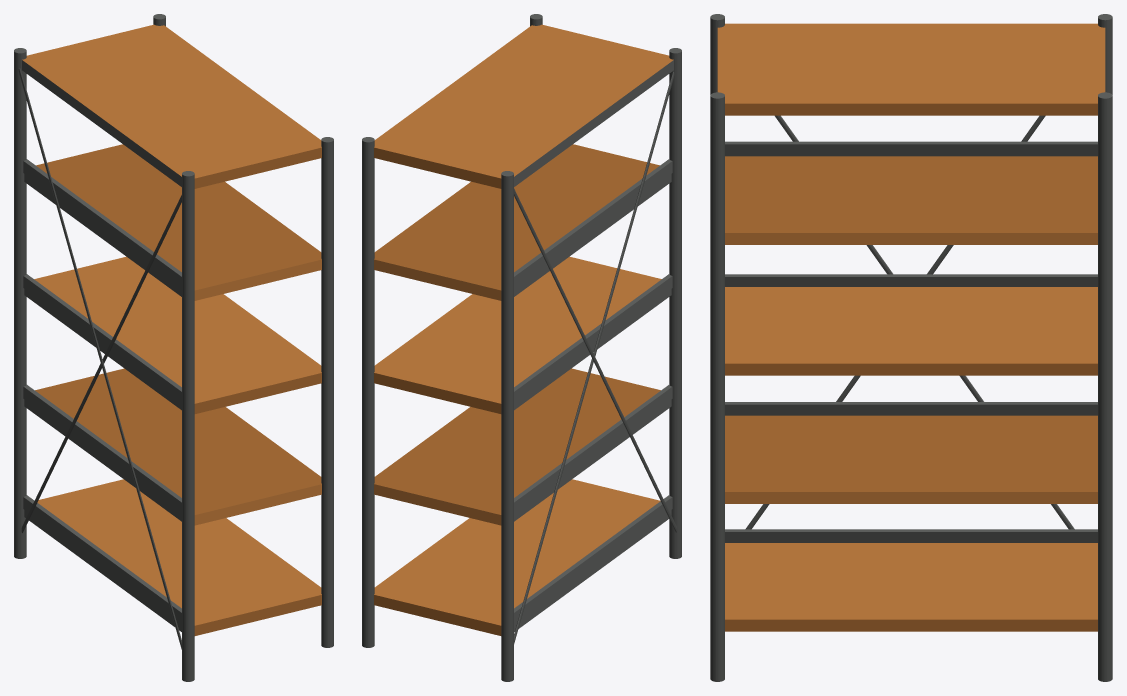
Rendered from Standing_Shelve.fbx.
3 views of the same model, side by side, from view 1: azimuth 30°, elevation 25°; view 2: azimuth 150°, elevation 25°; view 3: azimuth 270°, elevation 25° (orthographic). The views are drawn at different scales.
Parts seen in each view (by area): view 1: Cube.075; view 2: Cube.075; view 3: Cube.075.
Part boxes in pixels (x1,y1,x2,y2): Cube.075: [14, 14, 333, 681]; Cube.075: [362, 14, 681, 681]; Cube.075: [710, 14, 1112, 681].
Bounding box in the file's own units: 81.95 × 263 × 165.
